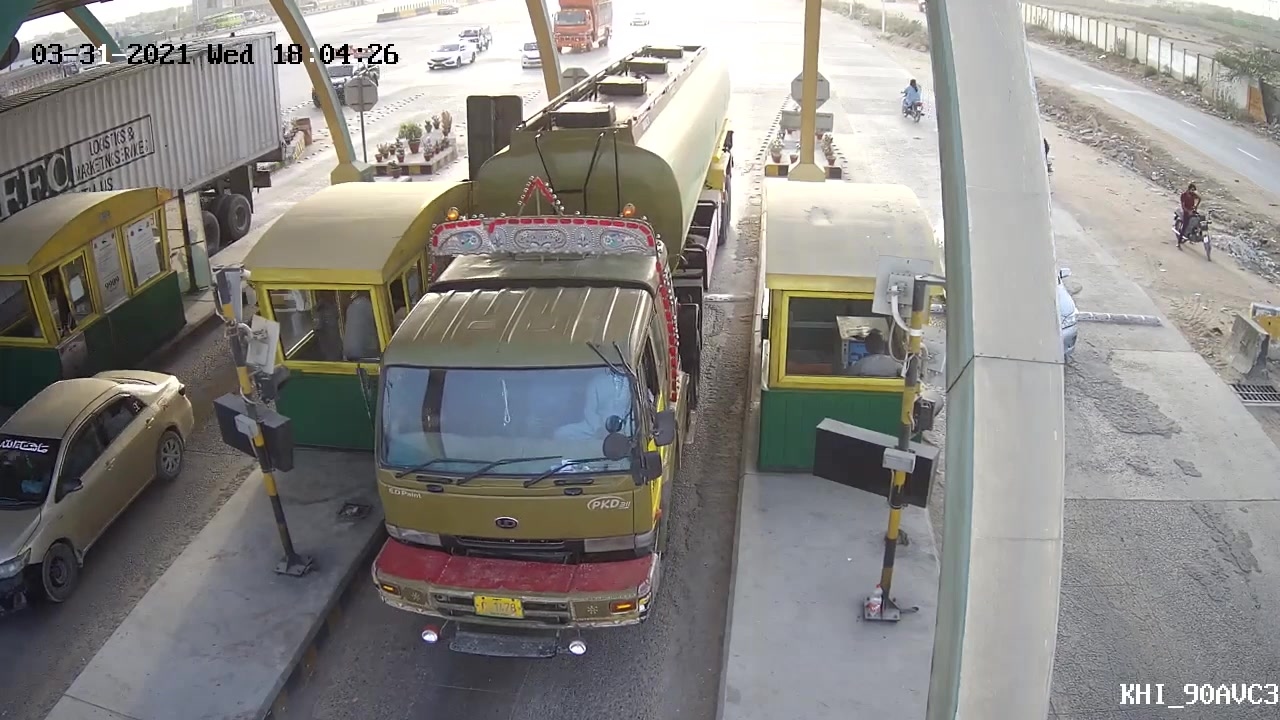F6: (369, 23, 755, 666)
